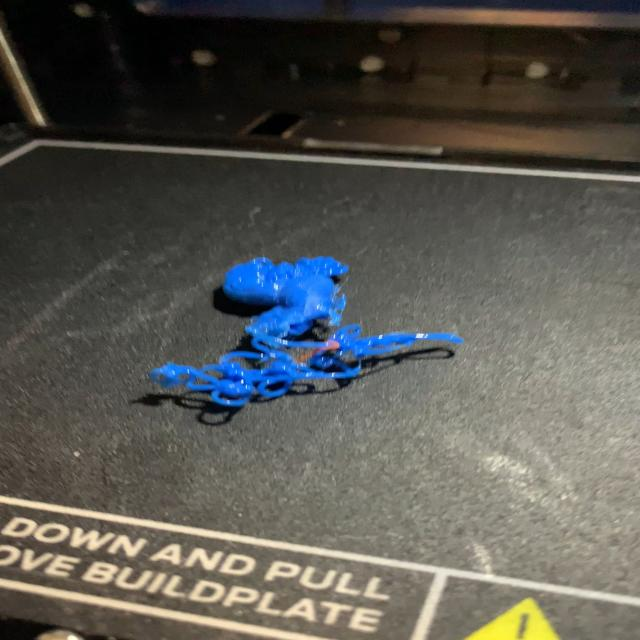spaghetti: (146, 254, 464, 409)
